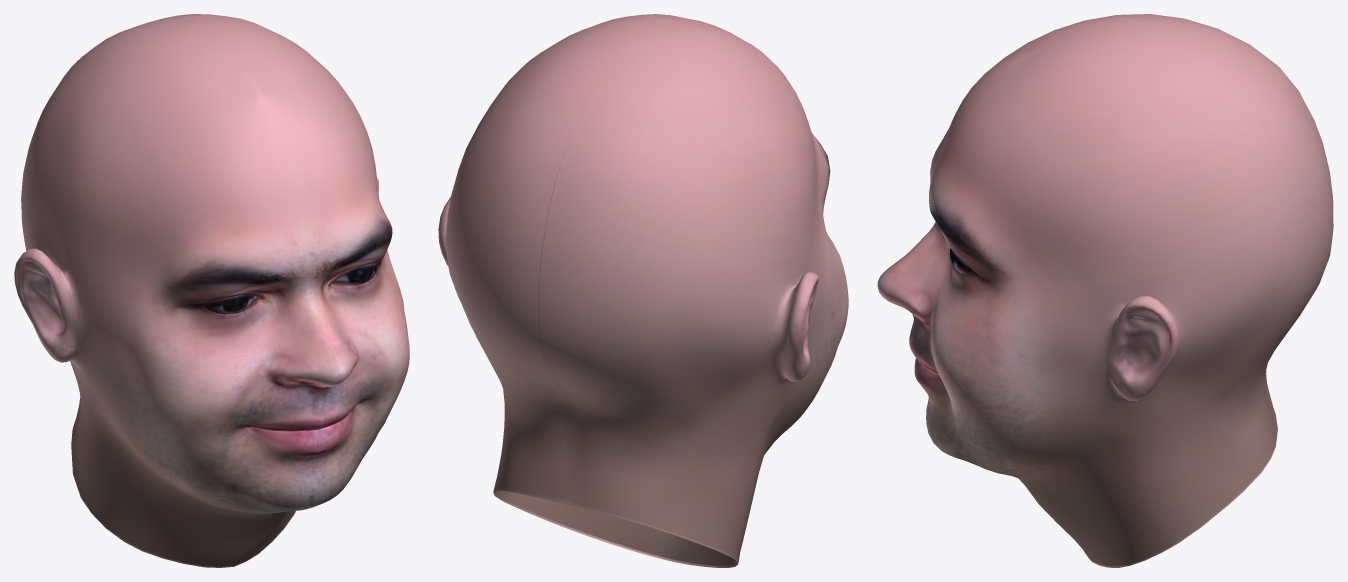
The model's file is apoman.glb.
3 renders of one model, left to right at view 1: azimuth 30°, elevation 25°; view 2: azimuth 150°, elevation 25°; view 3: azimuth 270°, elevation 25°, orthographic. The views are drawn at different scales.
Parts seen in each view (by area): view 1: FaceGen; view 2: FaceGen; view 3: FaceGen.
Boxes of the visible parts, box(x1,y1,x2,y2) form: FaceGen: box(14, 14, 409, 567); FaceGen: box(438, 14, 848, 567); FaceGen: box(877, 14, 1333, 567).
Size of the model in its own units: 2.52 by 3.54 by 2.81.
Materials: 7 (7 with a texture image).
